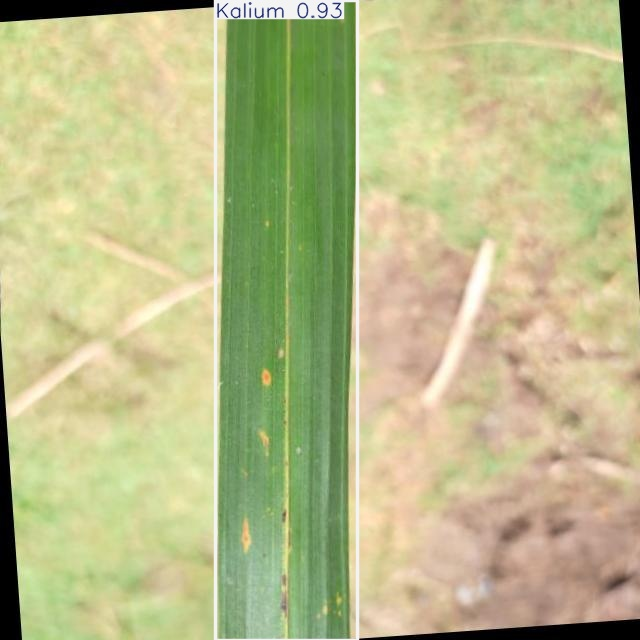Kalium: (216, 0, 358, 640)
